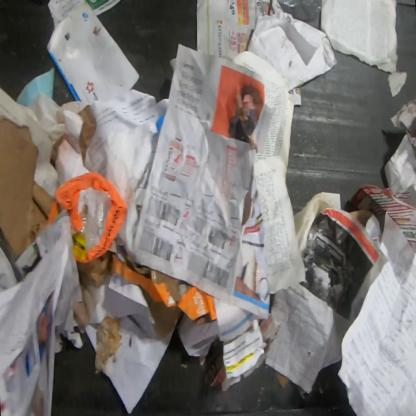cardboard: (0, 114, 55, 263), (111, 252, 217, 326), (76, 250, 117, 287), (77, 104, 97, 166)
soft_plastic: (43, 172, 127, 264), (278, 0, 322, 21)
